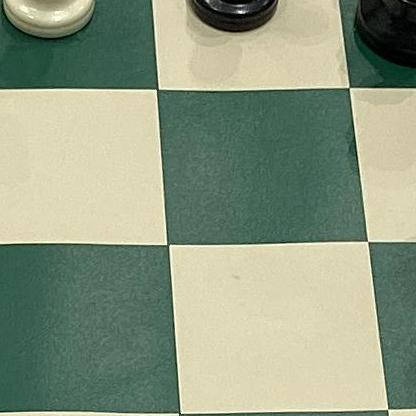black-pawn: (177, 0, 286, 37)
white-pawn: (0, 0, 107, 46)
